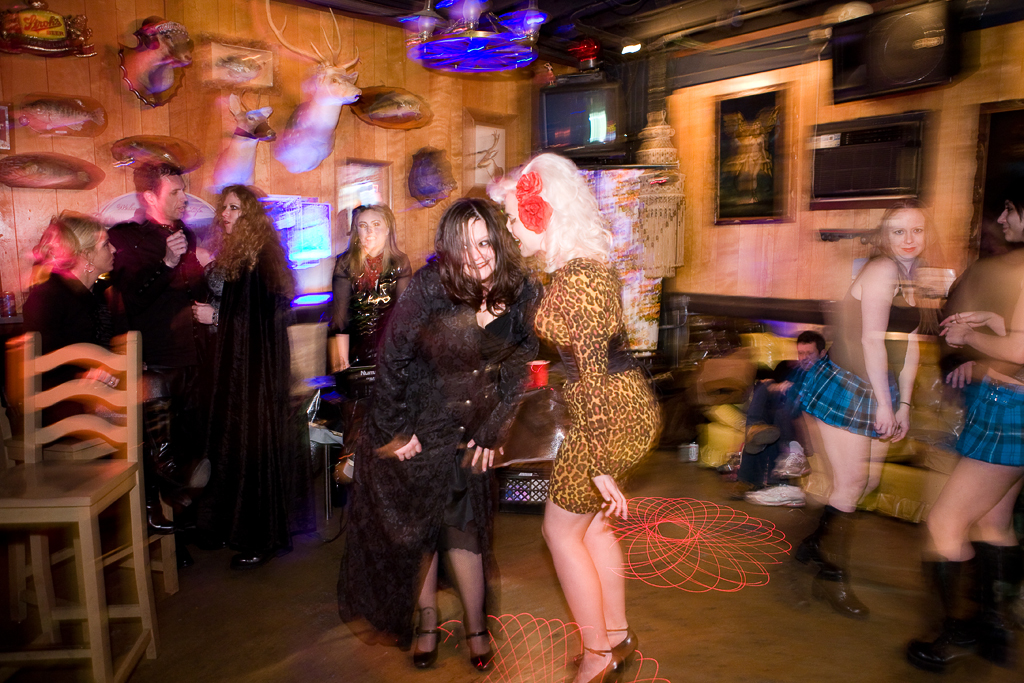Footwear: (897, 559, 988, 669), (812, 519, 869, 624), (972, 547, 1022, 665), (572, 641, 622, 682), (599, 630, 639, 676), (413, 607, 442, 669), (142, 497, 179, 538), (465, 626, 497, 671)
